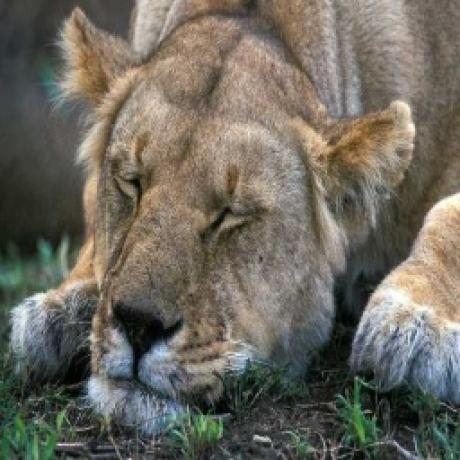Lion: (11, 0, 460, 435)
